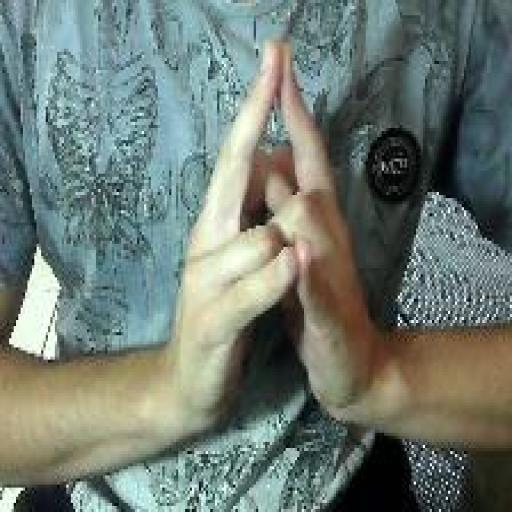Tori -bird-: (167, 35, 377, 431)
